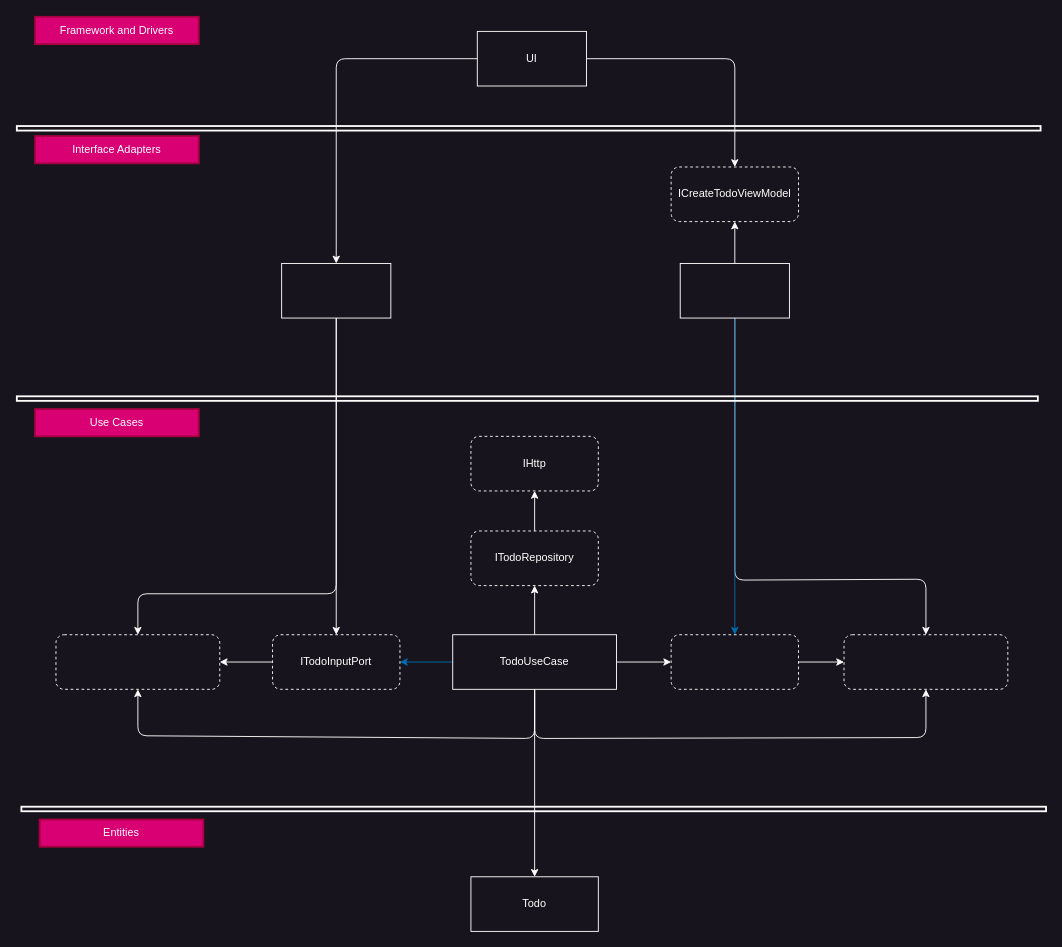
Some shapes in this 1062 by 947 pixel diagram are drawn without their labels. The box of each missing label's shape, as (x1, y1, x2, y2) in pixels:
ICreateTodoRequestModel: (55, 634, 220, 689)
ICreateTodoResponseModel: (843, 634, 1008, 689)
ITodoOutputPort: (670, 634, 799, 689)
TodoController: (281, 263, 391, 318)
TodoPresenter: (679, 263, 789, 318)
